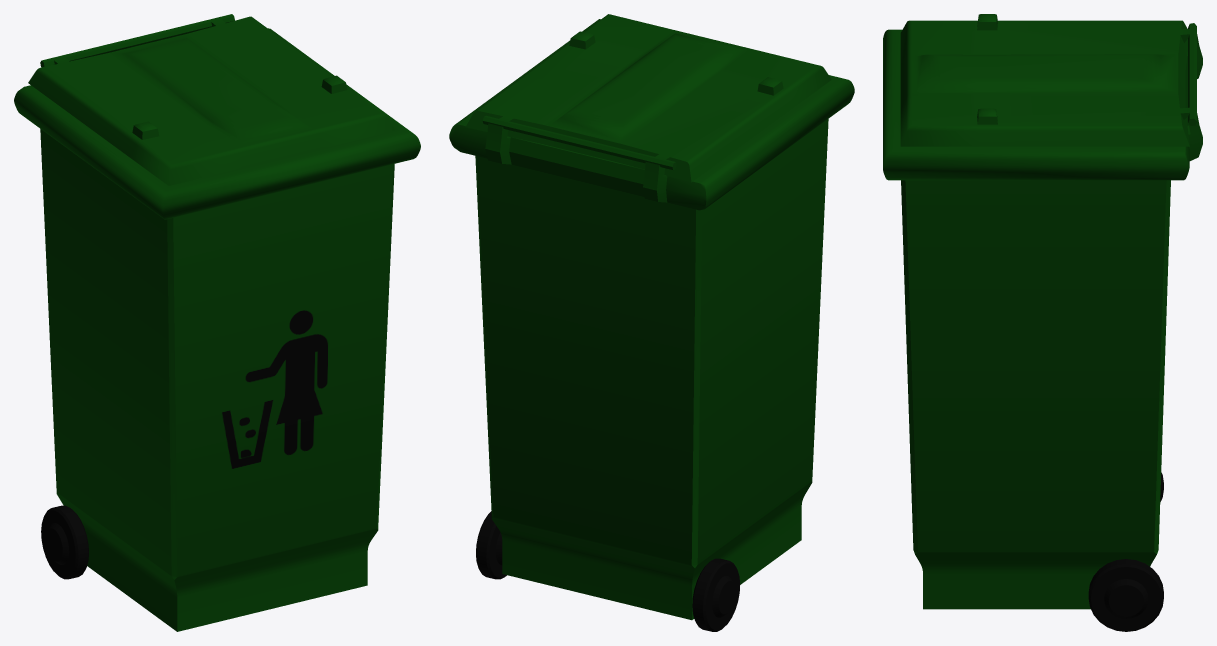
The model's file is Garbage container.fbx.
3 renders of one model, left to right at view 1: azimuth 30°, elevation 25°; view 2: azimuth 150°, elevation 25°; view 3: azimuth 270°, elevation 25°, orthographic. The views are drawn at different scales.
Visible parts, largest first — view 1: Garbage container, Garbage container lid; view 2: Garbage container, Garbage container lid; view 3: Garbage container, Garbage container lid.
Boxes of the visible parts, x1=… form: Garbage container: x1=14, y1=28, x2=420, y2=631; Garbage container lid: x1=28, y1=14, x2=395, y2=185; Garbage container: x1=449, y1=19, x2=854, y2=631; Garbage container lid: x1=465, y1=14, x2=831, y2=182; Garbage container: x1=883, y1=29, x2=1202, y2=631; Garbage container lid: x1=900, y1=14, x2=1196, y2=146.
Bounding box in the file's own units: 67.72 × 125 × 70.8.
Materials: 1 (1 with a texture image).
